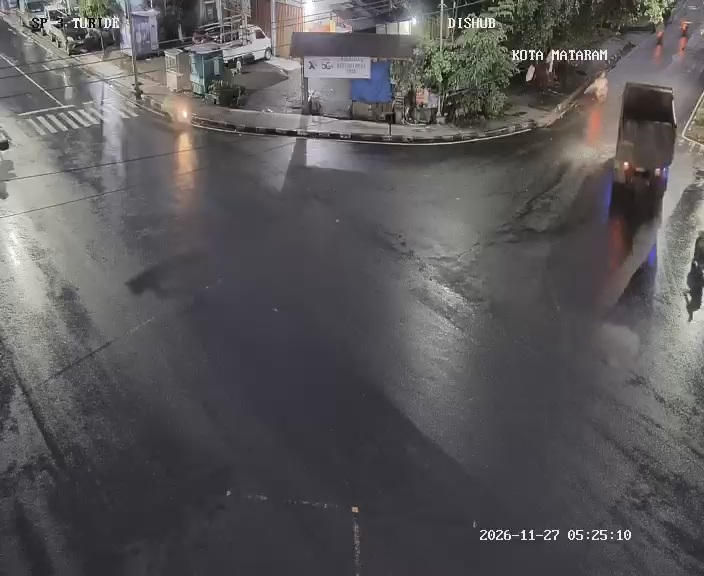Gerobak: (187, 47, 227, 101)
